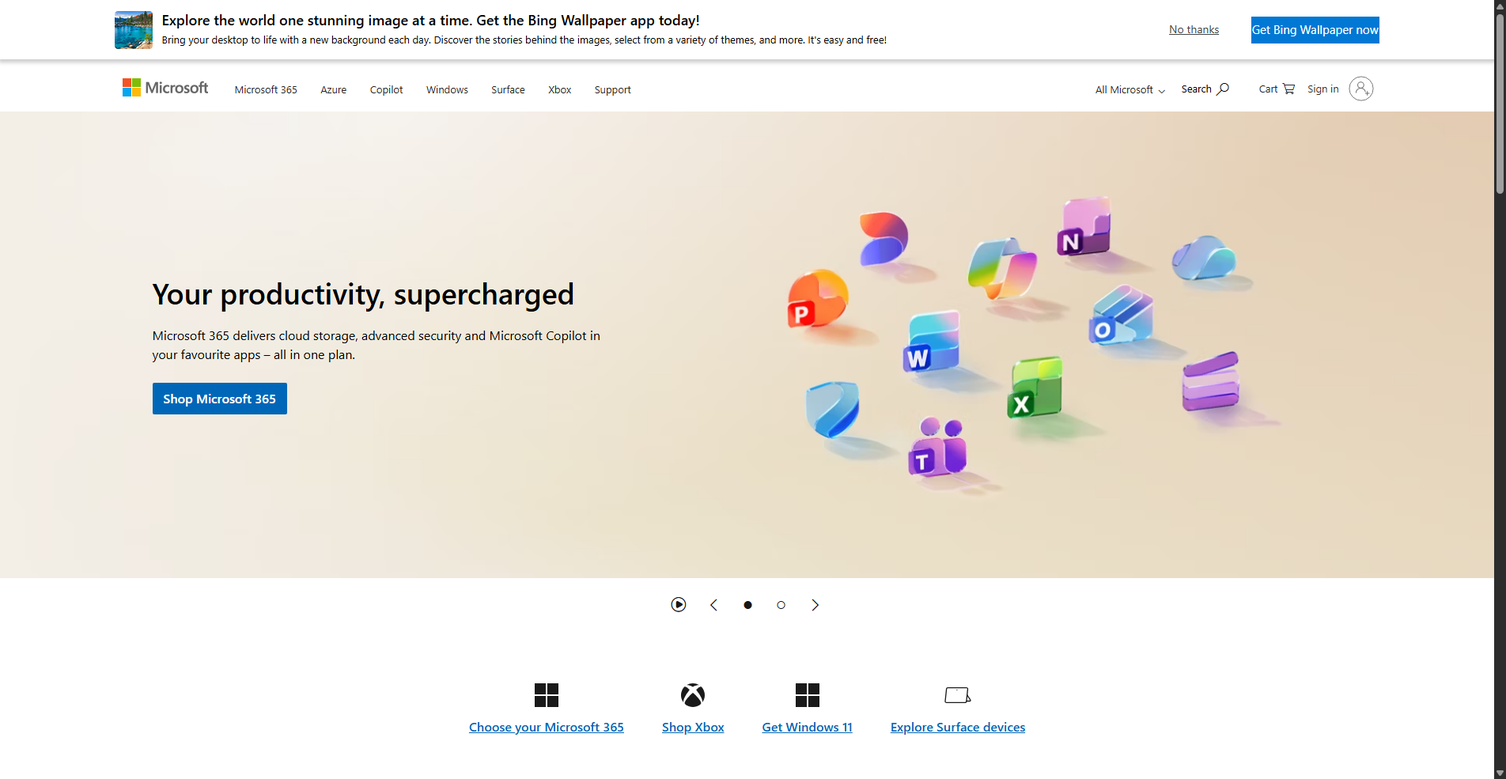button: (152, 383, 287, 415), (1083, 68, 1173, 110), (1251, 16, 1379, 43), (1147, 16, 1242, 43), (1174, 70, 1236, 105), (0, 111, 1493, 112), (696, 588, 731, 622), (662, 588, 696, 622), (798, 588, 832, 622)
link: (114, 68, 223, 111), (1298, 70, 1380, 108), (469, 717, 624, 736), (227, 68, 304, 106), (890, 717, 1025, 736), (419, 68, 475, 106), (587, 68, 638, 106), (484, 68, 532, 106), (363, 68, 410, 106), (762, 717, 852, 736), (313, 68, 354, 106), (541, 68, 578, 106), (1259, 69, 1295, 106), (662, 717, 724, 736)
menu_item: (224, 67, 307, 106), (416, 67, 478, 106), (584, 67, 641, 106), (481, 67, 535, 106), (360, 67, 413, 106), (310, 67, 357, 106), (538, 67, 581, 106)
